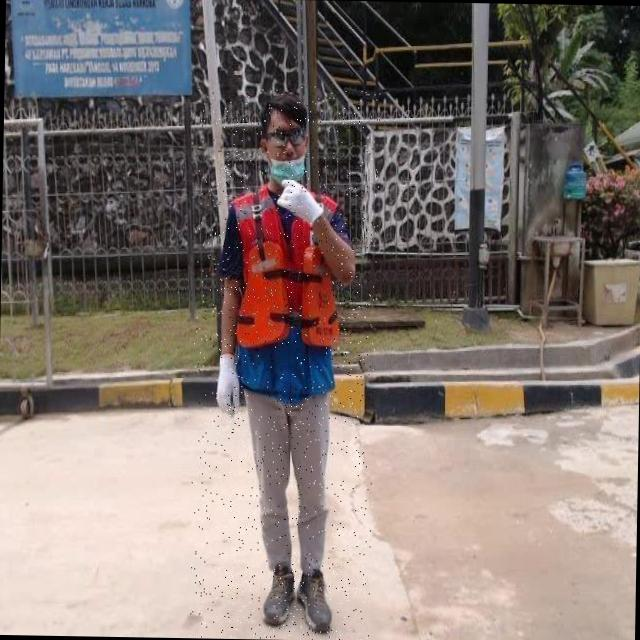safety_vest: (226, 182, 346, 398)
vehicle: (188, 84, 381, 640)
work_boots: (296, 568, 334, 636), (262, 560, 298, 627)
